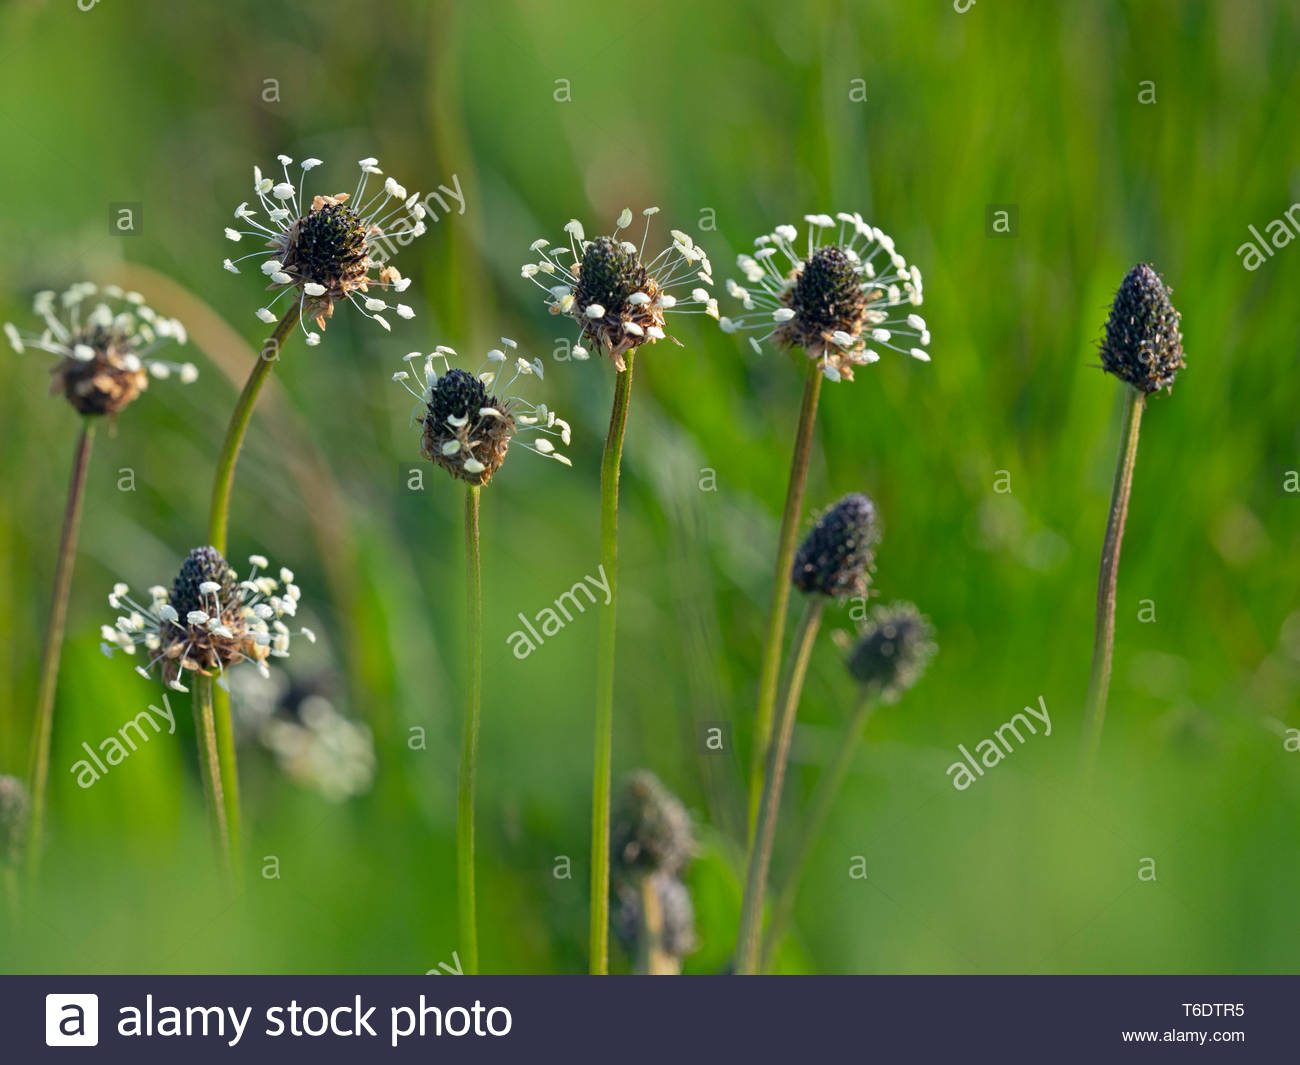buckhorn plantain: (78, 532, 304, 839), (729, 178, 924, 505), (191, 150, 465, 366), (523, 193, 725, 480), (389, 341, 571, 608), (29, 284, 161, 478)
